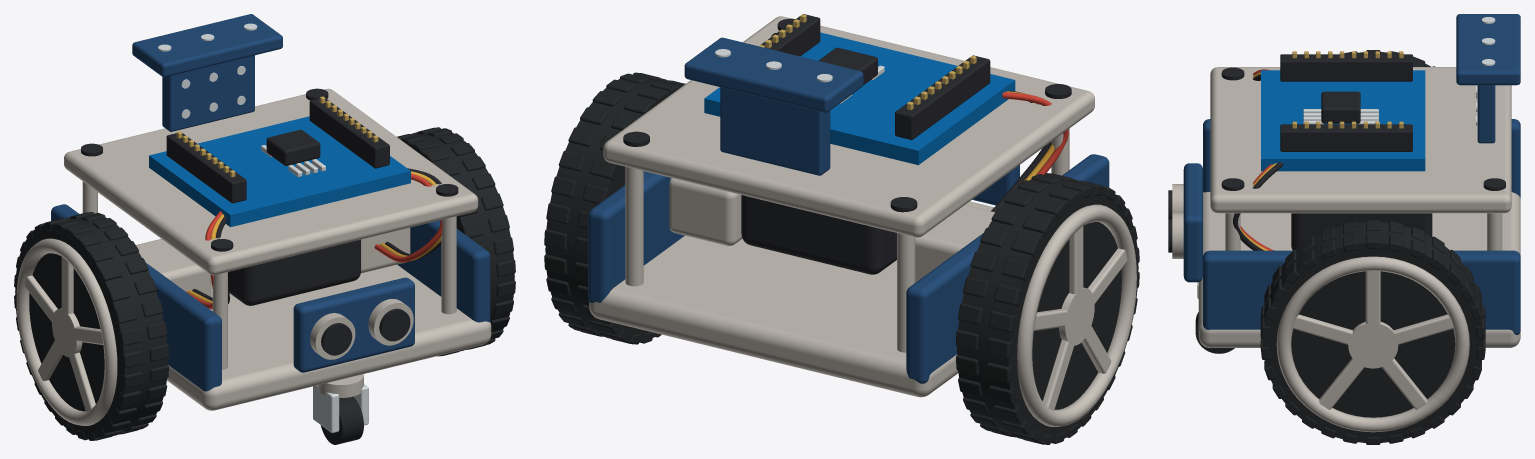
The model's file is robots-12.glb.
The picture shows the model from 3 angles, left to right: view 1: azimuth 30°, elevation 25°; view 2: azimuth 150°, elevation 25°; view 3: azimuth 270°, elevation 25°; orthographic projection. The views are drawn at different scales.
Visible parts, largest first — view 1: deck, tires, chassis, board, stand, wheels, sensor, headers, battery, motors, caster, cables; view 2: chassis, tires, deck, stand, wheels, board, battery, motors, headers, cables, sensor; view 3: tires, deck, chassis, wheels, board, headers, stand, sensor, battery, cables.
Part boxes in pixels (<box>): deck: <box>64,88,478,369</box>; tires: <box>14,127,515,440</box>; chassis: <box>51,204,491,410</box>; board: <box>149,116,410,227</box>; stand: <box>132,14,282,131</box>; wheels: <box>16,238,117,425</box>; sensor: <box>293,277,414,372</box>; headers: <box>166,96,389,203</box>; battery: <box>228,239,360,305</box>; motors: <box>136,227,410,296</box>; caster: <box>313,374,368,444</box>; cables: <box>186,168,442,309</box>; chassis: <box>588,154,1109,397</box>; tires: <box>544,72,1139,444</box>; deck: <box>603,16,1094,352</box>; stand: <box>684,37,863,175</box>; wheels: <box>1017,204,1136,426</box>; board: <box>704,32,1015,165</box>; battery: <box>741,195,896,274</box>; motors: <box>669,178,994,282</box>; headers: <box>759,14,990,139</box>; cables: <box>771,33,1068,212</box>; sensor: <box>972,165,1019,205</box>; tires: <box>1260,50,1485,444</box>; deck: <box>1210,67,1511,250</box>; chassis: <box>1198,119,1520,347</box>; wheels: <box>1276,256,1469,432</box>; board: <box>1261,70,1425,171</box>; headers: <box>1280,51,1412,151</box>; stand: <box>1456,14,1520,143</box>; sensor: <box>1168,163,1202,282</box>; battery: <box>1291,213,1432,250</box>; cables: <box>1233,69,1283,250</box>.
Size of the model in its own units: 2.28 by 1.64 by 1.7.
